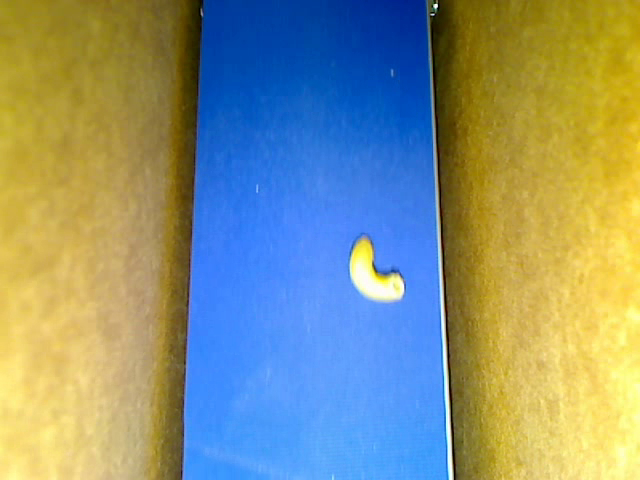elbow: (348, 234, 404, 302)
